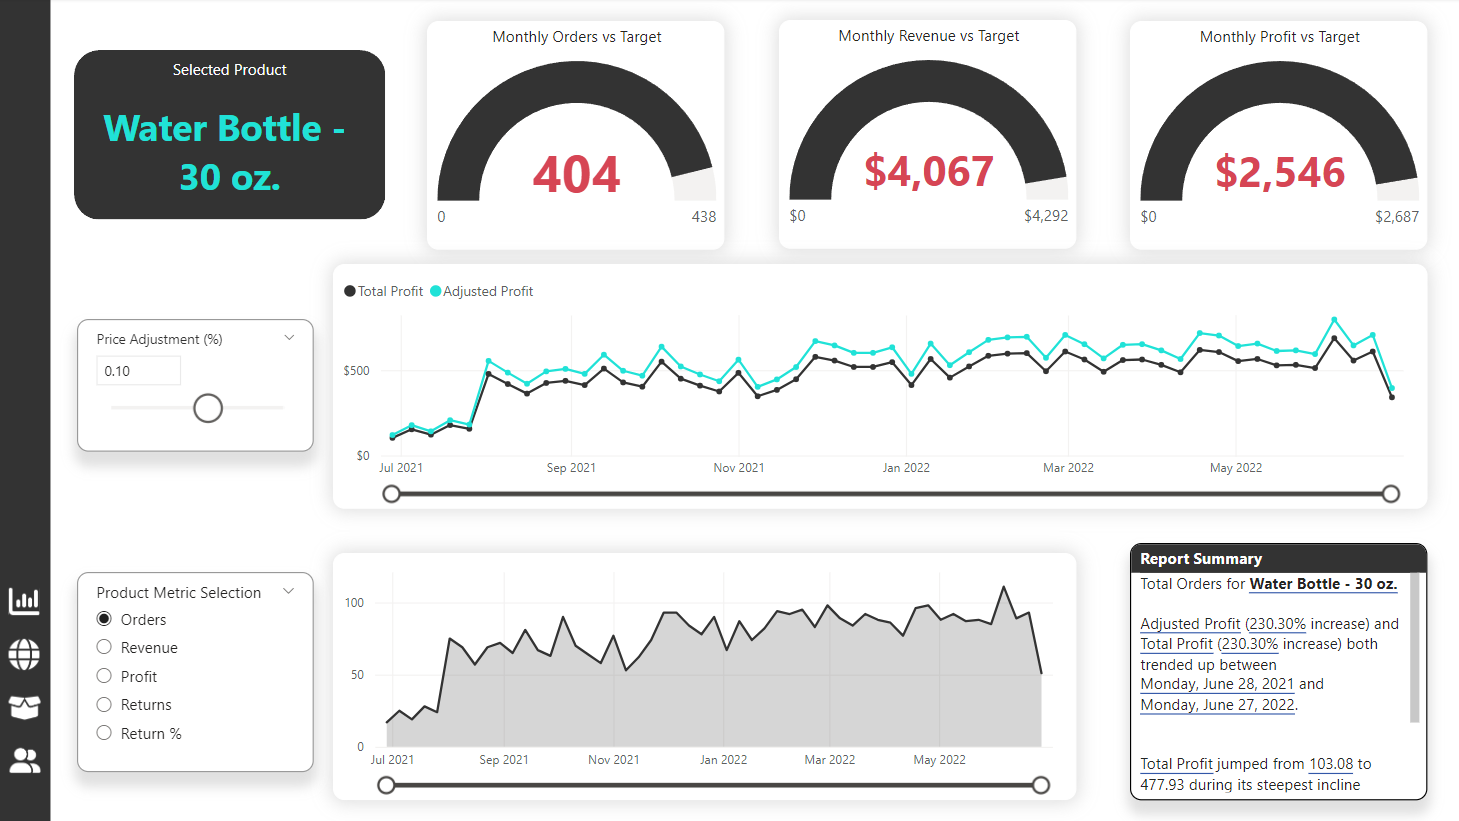

What the dashboard file says about the page in this screenshot:
{"tool":"powerbi","page":{"name":"Product Detail","canvas":[1280,720],"ordinal":2},"visuals":[{"type":"shape","box":[0,0,45,720],"z":0},{"type":"gauge","title":"Monthly Orders vs Target","fields":{"Y":["Measure Table.Total Orders"],"MaxValue":["Measure Table.Target Order"]},"box":[374.1,20.1,260.1,200],"z":1000},{"type":"actionButton","box":[4.5,508.1,35.3,39.8],"z":1000,"group":"g1"},{"type":"gauge","title":"Monthly Revenue vs Target","fields":{"Y":["Measure Table.Total Revenue"],"MaxValue":["Measure Table.Target Revenue"]},"box":[681.6,19,260.1,200],"z":2000},{"type":"actionButton","box":[4.5,554.3,35.3,39.8],"z":2000,"group":"g1"},{"type":"gauge","title":"Monthly Profit vs Target","fields":{"Y":["Measure Table.Total Profit"],"MaxValue":["Measure Table.Target Profit"]},"box":[989.1,20.1,260,200],"z":3000},{"type":"actionButton","box":[4.5,647.4,35.2,39.6],"z":3000,"group":"g1"},{"type":"lineChart","title":"Profit Trending","fields":{"Category":["Calendar Lookup.Date Hierarchy.Start of Year","Calendar Lookup.Date Hierarchy.Start of Month","Calendar Lookup.Date Hierarchy.Start of Week","Calendar Lookup.Date Hierarchy.Date"],"Y":["Measure Table.Total Profit","Measure Table.Adjusted Profit"]},"box":[296,240,952,216],"z":4000},{"type":"actionButton","box":[4.1,600.5,36.1,40.5],"z":4000,"group":"g1"},{"type":"areaChart","title":"Returns Trending","fields":{"Y":["Measure Table.Total Orders"],"Category":["Calendar Lookup.Date Hierarchy.Start of Year","Calendar Lookup.Date Hierarchy.Start of Month","Calendar Lookup.Date Hierarchy.Start of Week","Calendar Lookup.Date Hierarchy.Date"]},"box":[291.8,485.2,650.5,216.5],"z":5000},{"type":"group","id":"g1","title":"Navigation Buttons","box":[4.1,508.1,36.1,178.9],"z":6000},{"type":"slicer","fields":{"Values":["Price Adjustment (%).Price Adjustment (%)"]},"box":[64,240,208,112],"z":7000},{"type":"slicer","fields":{"Values":["Product Metric Selection.Product Metric Selection"]},"box":[64,488,208,216],"z":8000},{"type":"textbox","title":"Report Summary","box":[988.9,476.5,259.7,224.7],"z":9000},{"type":"card","fields":{"Values":["Measure Table.Adjusted Profit"]},"box":[80,368,176,88],"z":10000},{"type":"slicer","title":"Top 10 Products","fields":{"Values":["Product Lookup.ProductName"]},"box":[64,24,264,200],"z":11000},{"type":"actionButton","box":[4.5,24.5,36.2,33.5],"z":12000}]}

Visuals, with their boxes on the page's 1280x720 design canvas (x1, y1, x2, y2). These are canvas units, not pixel positions in the 1459x821 screenshot, which may show the page scaled, cropped or inside an application window:
shape: BBox(0, 0, 45, 720)
"Monthly Orders vs Target" gauge: BBox(374, 20, 634, 220)
actionButton: BBox(4, 508, 40, 548)
"Monthly Revenue vs Target" gauge: BBox(682, 19, 942, 219)
actionButton: BBox(4, 554, 40, 594)
"Monthly Profit vs Target" gauge: BBox(989, 20, 1249, 220)
actionButton: BBox(4, 647, 40, 687)
"Profit Trending" lineChart: BBox(296, 240, 1248, 456)
actionButton: BBox(4, 600, 40, 641)
"Returns Trending" areaChart: BBox(292, 485, 942, 702)
"Navigation Buttons" group: BBox(4, 508, 40, 687)
slicer - Price Adjustment (%).Price Adjustment (%): BBox(64, 240, 272, 352)
slicer - Product Metric Selection.Product Metric Selection: BBox(64, 488, 272, 704)
"Report Summary" textbox: BBox(989, 476, 1249, 701)
card - Measure Table.Adjusted Profit: BBox(80, 368, 256, 456)
"Top 10 Products" slicer: BBox(64, 24, 328, 224)
actionButton: BBox(4, 24, 41, 58)
